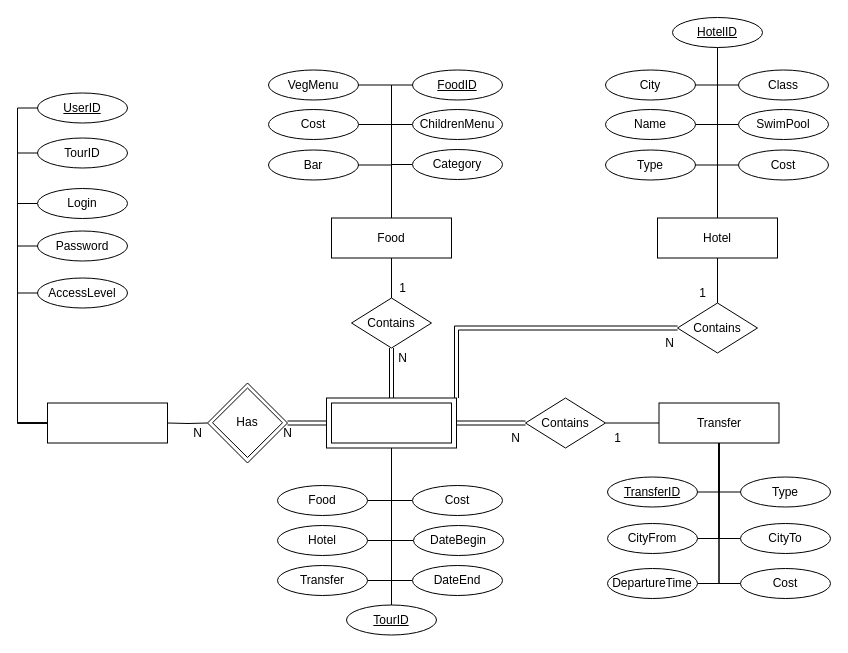
Image size: 848x653. Some labels were removed from this diagram. Here are the shapes that lost their labels. From the top down, the box of each, then its label:
(46, 402, 168, 443): Users
(330, 402, 452, 443): Tour
